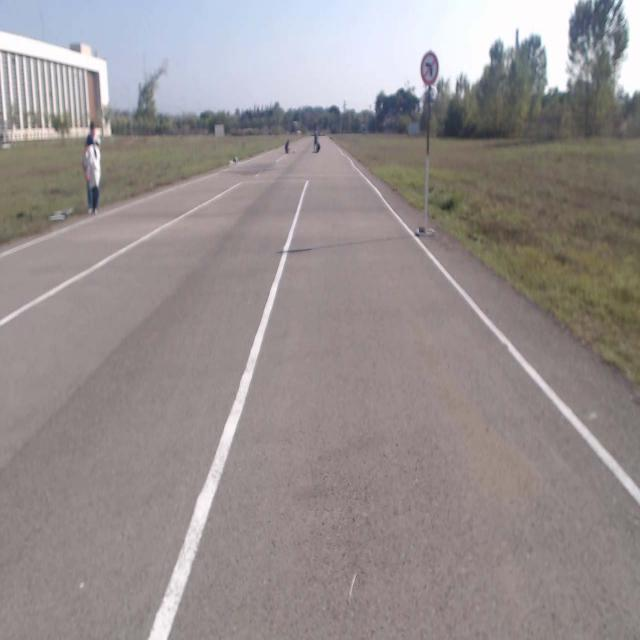soladonulmez: (421, 53, 438, 86)
